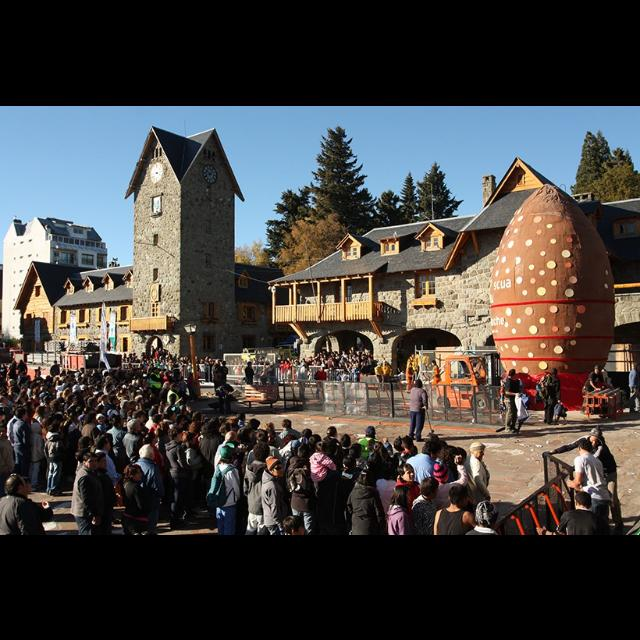head: (478, 501, 500, 529), (6, 474, 30, 496), (419, 476, 441, 499), (448, 484, 469, 508), (423, 440, 442, 462), (575, 491, 595, 511), (398, 463, 418, 483), (252, 442, 272, 462), (267, 458, 285, 478), (469, 441, 486, 462), (82, 452, 100, 471), (395, 486, 413, 504), (296, 442, 314, 460), (126, 463, 144, 481), (139, 444, 157, 461), (434, 465, 450, 483), (93, 452, 109, 470), (18, 475, 34, 493), (578, 439, 594, 456), (360, 474, 376, 490), (95, 436, 111, 452), (220, 444, 234, 460), (128, 418, 142, 434), (324, 440, 338, 456), (256, 430, 270, 446), (225, 430, 239, 444), (372, 441, 386, 455), (590, 432, 602, 448), (170, 427, 183, 441), (48, 422, 62, 434), (15, 408, 29, 420), (79, 437, 93, 449), (112, 416, 126, 428), (346, 457, 358, 471), (85, 412, 98, 424), (316, 442, 328, 454), (186, 434, 198, 446), (202, 423, 214, 435), (367, 424, 378, 436), (0, 424, 8, 440), (147, 432, 159, 442), (282, 419, 292, 431), (43, 418, 53, 429), (508, 368, 518, 378), (415, 378, 423, 388), (594, 365, 602, 375), (552, 368, 560, 376), (632, 362, 638, 370), (220, 386, 228, 392), (222, 360, 228, 366), (432, 359, 436, 366), (248, 361, 252, 367), (320, 366, 324, 372), (384, 360, 388, 366), (218, 360, 222, 366), (409, 364, 413, 368), (378, 364, 382, 368), (54, 360, 58, 364), (19, 359, 23, 363), (13, 360, 17, 364)
person: (541, 424, 627, 532), (244, 427, 286, 525), (350, 424, 388, 522), (212, 428, 246, 526), (94, 433, 126, 531), (194, 419, 228, 509), (163, 427, 190, 528), (272, 418, 304, 498), (142, 432, 170, 522), (122, 416, 146, 508), (14, 406, 38, 494), (179, 432, 205, 511), (535, 366, 569, 426), (74, 434, 98, 518), (39, 415, 65, 491), (104, 414, 128, 496), (42, 422, 68, 496), (80, 410, 102, 496), (308, 440, 346, 484), (0, 422, 18, 511), (407, 378, 429, 442), (580, 364, 608, 414), (504, 367, 524, 433), (215, 382, 238, 413), (313, 364, 329, 400), (244, 359, 256, 398), (211, 356, 223, 394), (430, 358, 442, 392), (382, 359, 394, 391), (49, 358, 62, 387), (404, 362, 416, 392), (6, 360, 20, 384), (374, 362, 384, 394), (220, 360, 230, 392), (16, 358, 29, 382)
